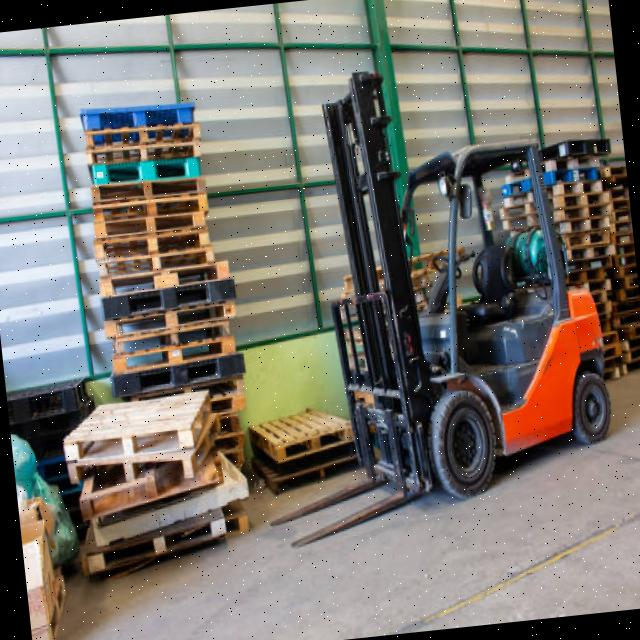Wooden-Pallets: (92, 250, 236, 309), (101, 332, 247, 386), (58, 419, 193, 467), (93, 188, 213, 237), (267, 417, 353, 480)
